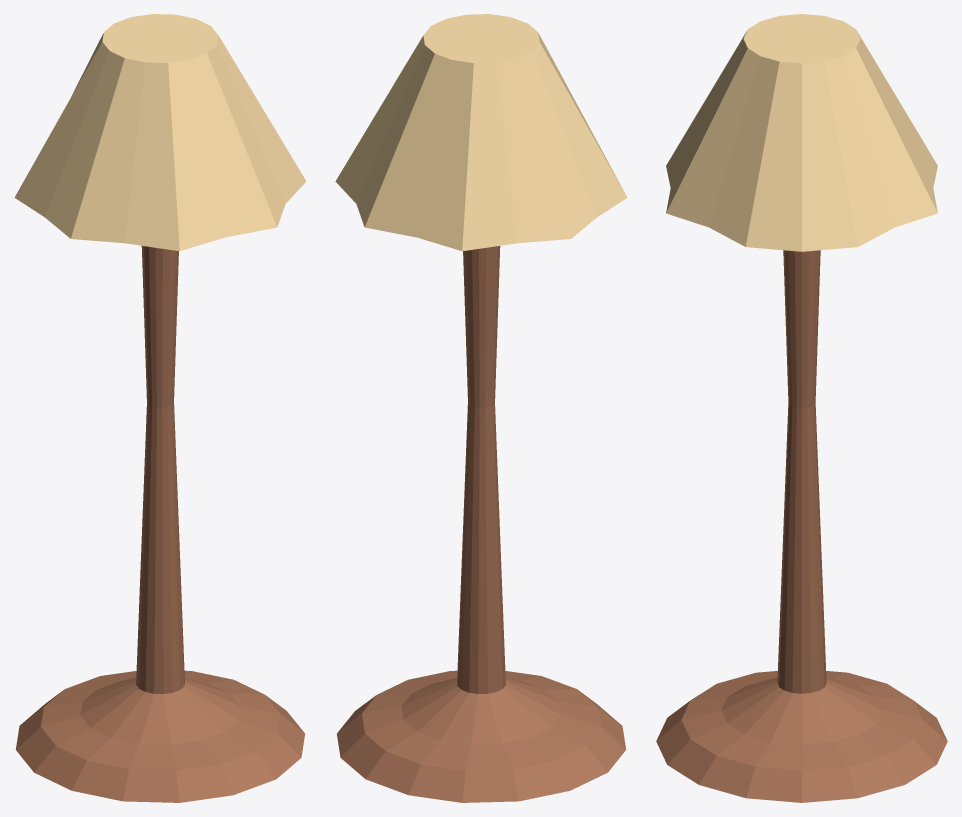
File: Floor_Light_Model.fbx
3 views of the same model, side by side, from view 1: azimuth 30°, elevation 25°; view 2: azimuth 150°, elevation 25°; view 3: azimuth 270°, elevation 25° (orthographic).
Visible parts, largest first — view 1: 29_FloorLight; view 2: 29_FloorLight; view 3: 29_FloorLight.
Part boxes in pixels (box(x1,y1,x2,y2)): 29_FloorLight: box(14, 14, 306, 802); 29_FloorLight: box(335, 14, 627, 802); 29_FloorLight: box(656, 14, 947, 802).
Bounding box in the file's own units: 124 × 329 × 124.
